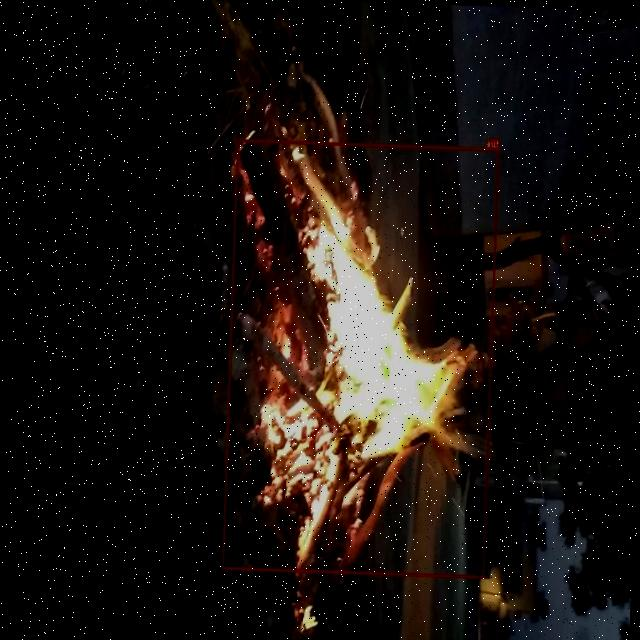fire: (222, 138, 499, 578)
